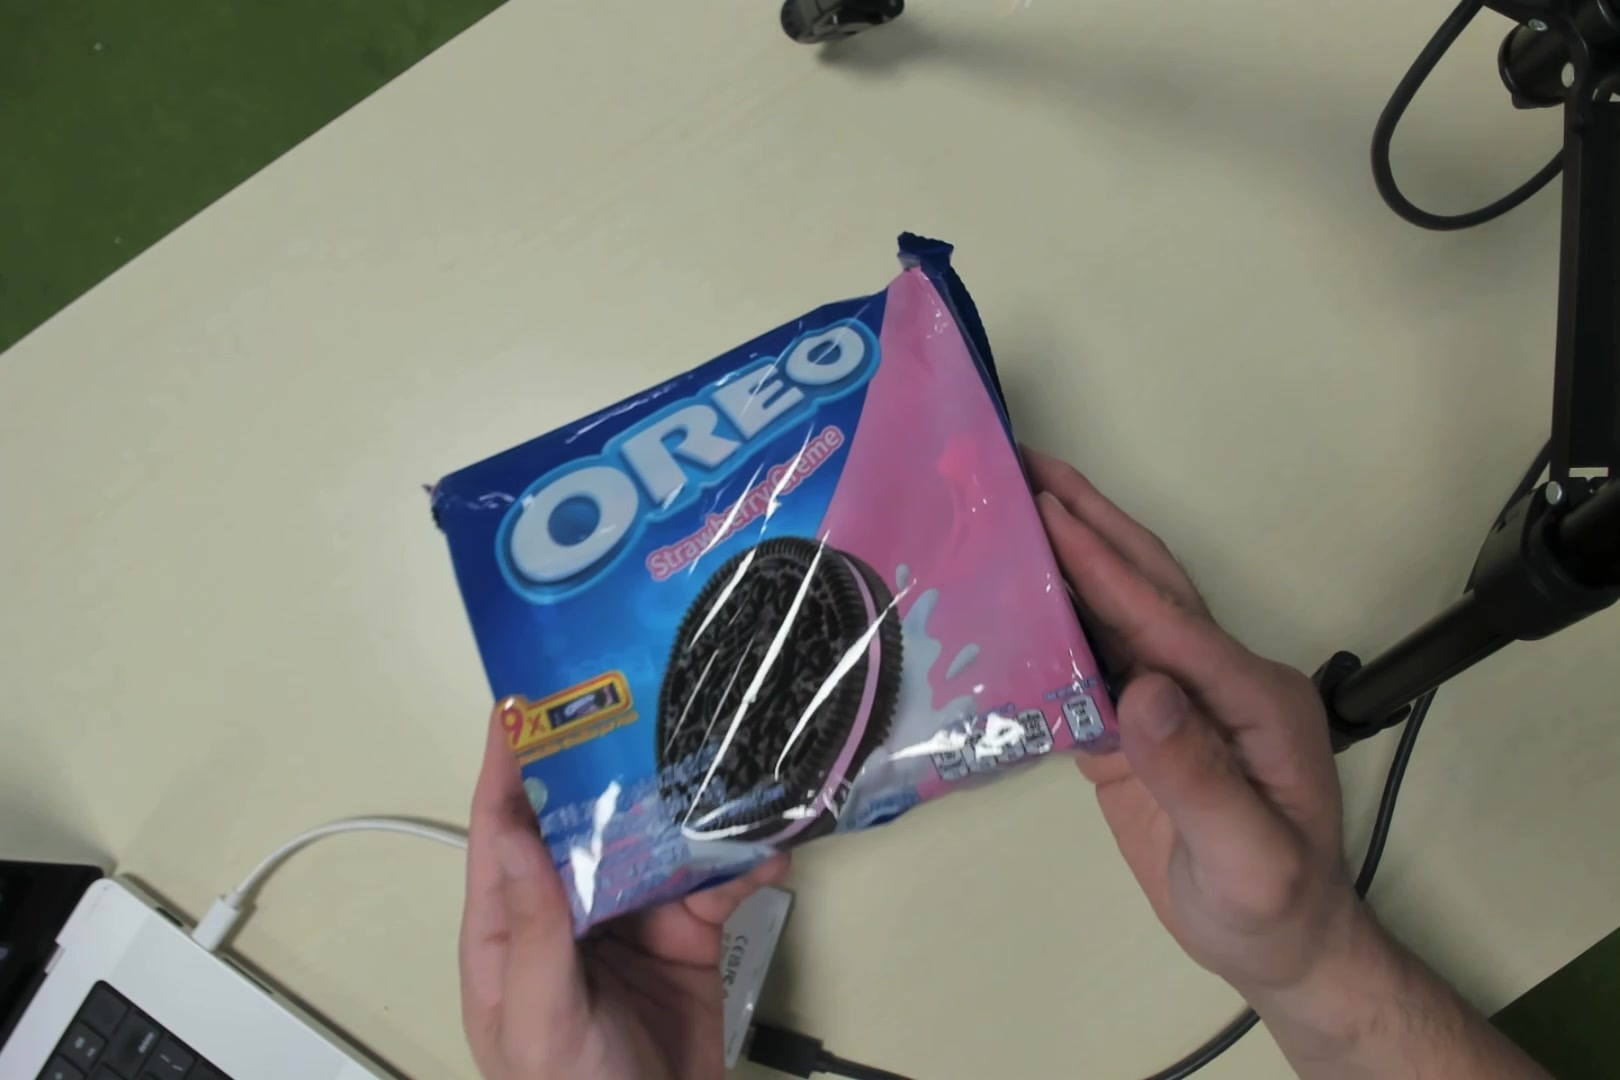SweetsChocolatesOthers_200-299g_Halal_NonHealthy: (481, 356, 1068, 843)
